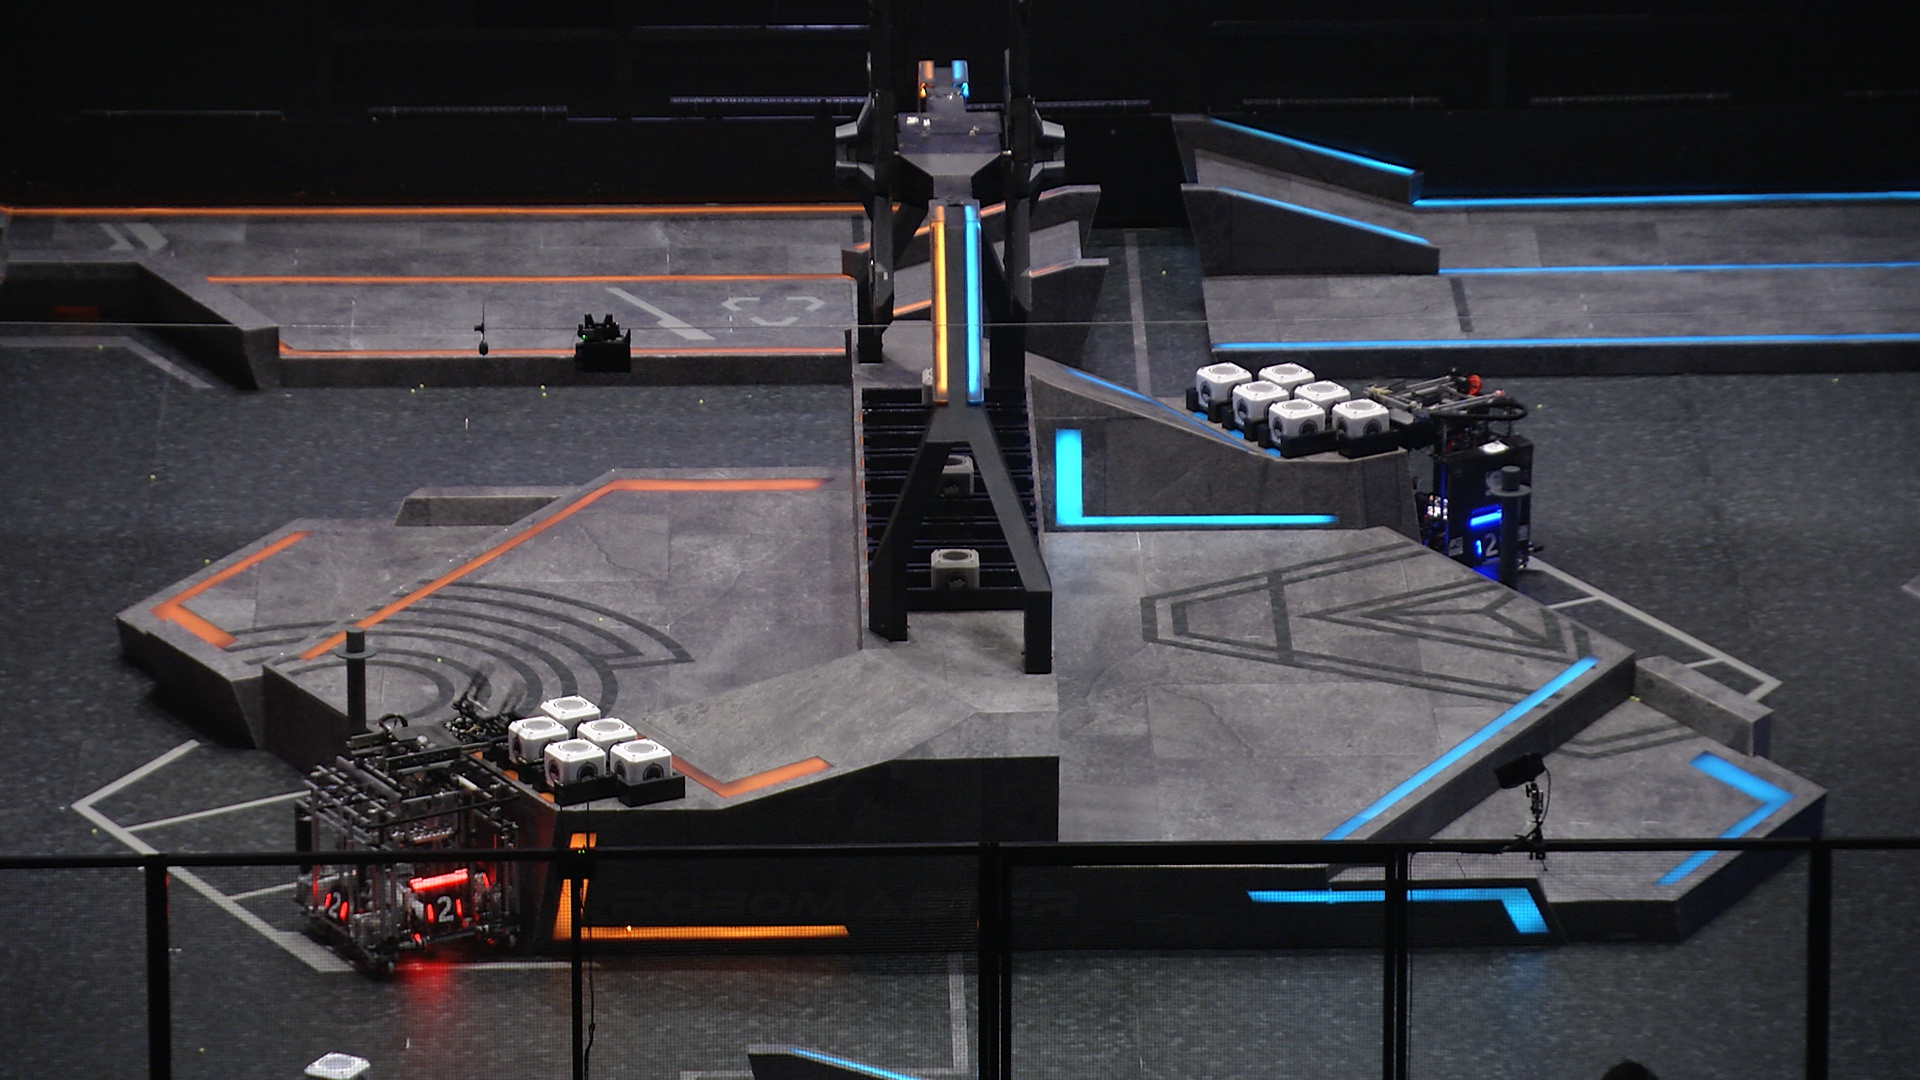armor: (423, 894, 467, 931), (319, 889, 349, 920), (1476, 531, 1505, 556)
car: (291, 707, 535, 978), (1353, 372, 1539, 576)
